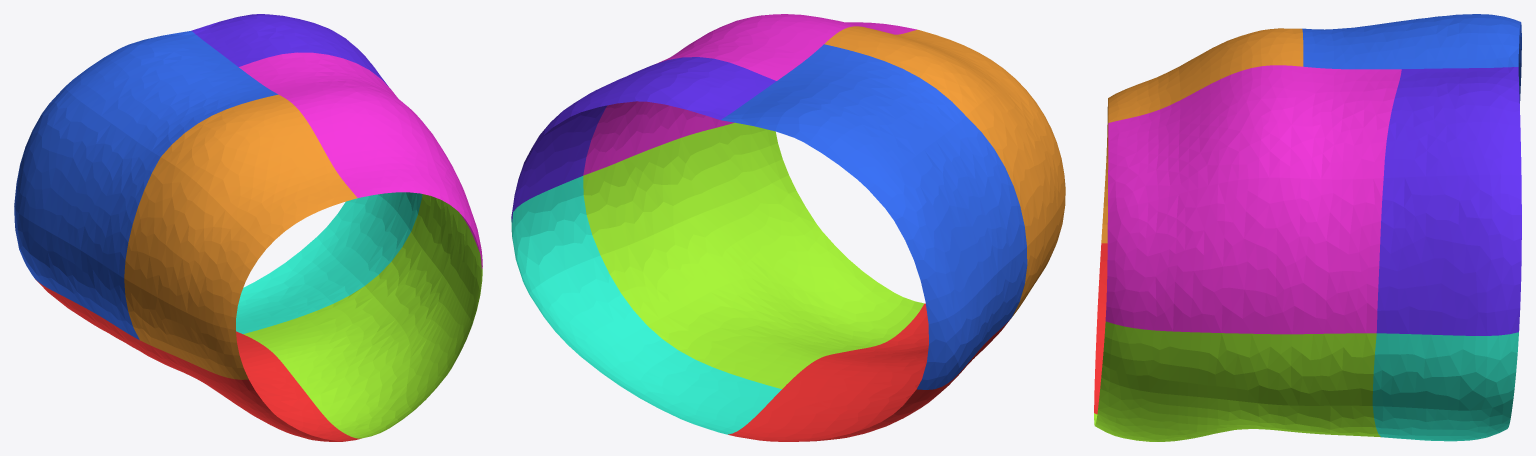
The model's file is lskirt_fab_garmentA.obj.
The picture shows the model from 3 angles, left to right: view 1: azimuth 30°, elevation 25°; view 2: azimuth 150°, elevation 25°; view 3: azimuth 270°, elevation 25°; orthographic projection. The views are drawn at different scales.
Visible parts, largest first — view 1: lskirt_fab_garmentA; view 2: lskirt_fab_garmentA; view 3: lskirt_fab_garmentA.
Boxes of the visible parts, box(x1,y1,x2,y2) form: lskirt_fab_garmentA: box(14, 14, 482, 441); lskirt_fab_garmentA: box(511, 14, 1065, 441); lskirt_fab_garmentA: box(1094, 14, 1521, 441).
Size of the model in its own units: 706 by 540 by 570.
